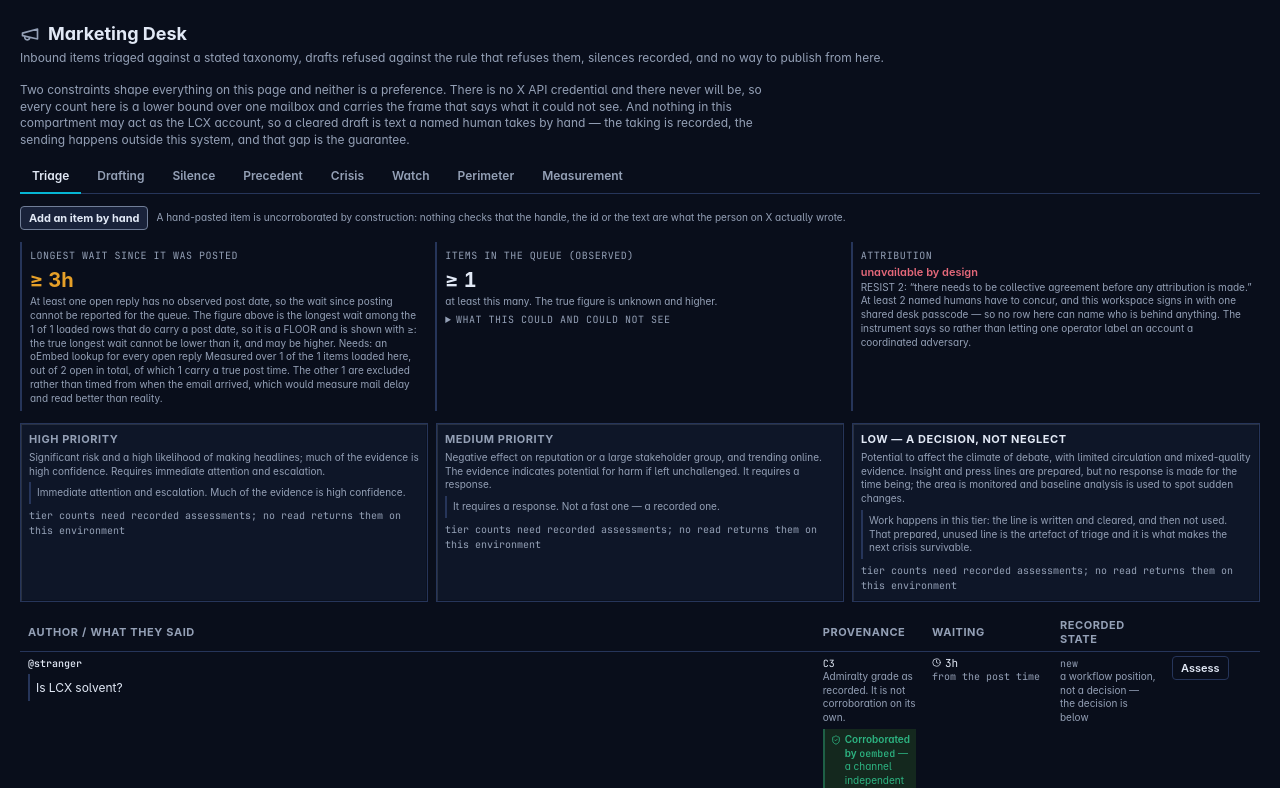
measurement measures the desk, not the market › says which read a metric needs instead of rendering a zero
Click the tab "Measurement" at (583, 177), box [530,160,635,194]
(page scrolled)
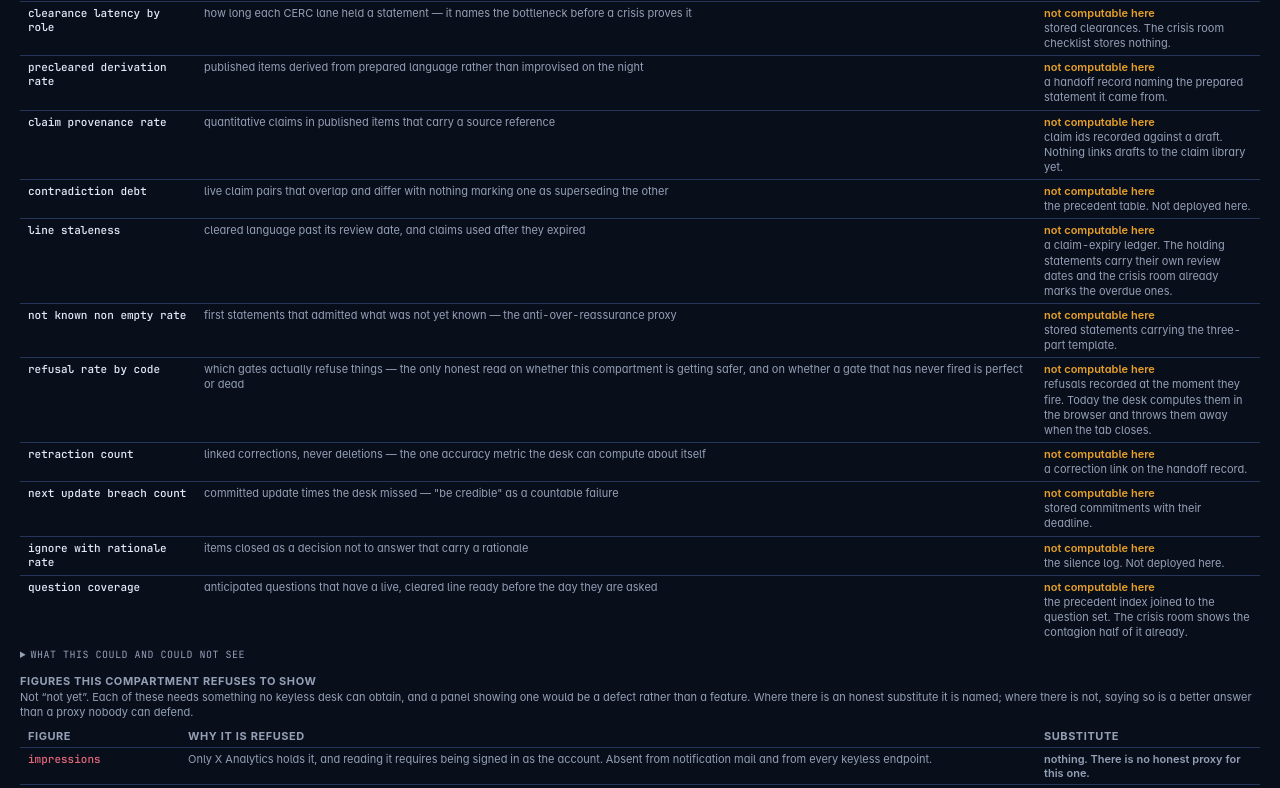
Now the row with test id "mkt-metric-refusal_rate_by_code" shows "not computable here", box [1044,362,1155,376]
Now the row with test id "mkt-metric-refusal_rate_by_code" shows "throws them away when the tab closes", box [1044,377,1243,437]
